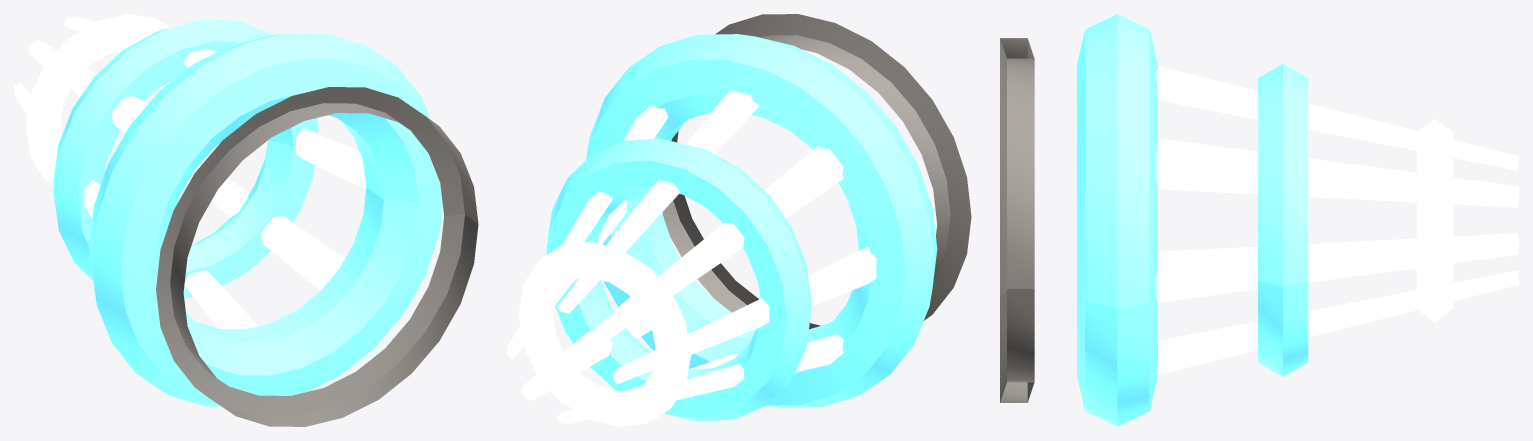
Rendered from vfx-mesh-library-thruster-ring-447fd322.glb.
3 renders of one model, left to right at view 1: azimuth 30°, elevation 25°; view 2: azimuth 150°, elevation 25°; view 3: azimuth 270°, elevation 25°, orthographic. The views are drawn at different scales.
Visible parts, largest first — view 1: thruster-ring; view 2: thruster-ring; view 3: thruster-ring.
Part boxes in pixels (left/top/right/bottom): thruster-ring: left=14, top=14, right=478, bottom=426; thruster-ring: left=507, top=14, right=971, bottom=426; thruster-ring: left=1000, top=14, right=1518, bottom=426.
Bounding box in the file's own units: 0.6 × 0.5956 × 0.7516.
